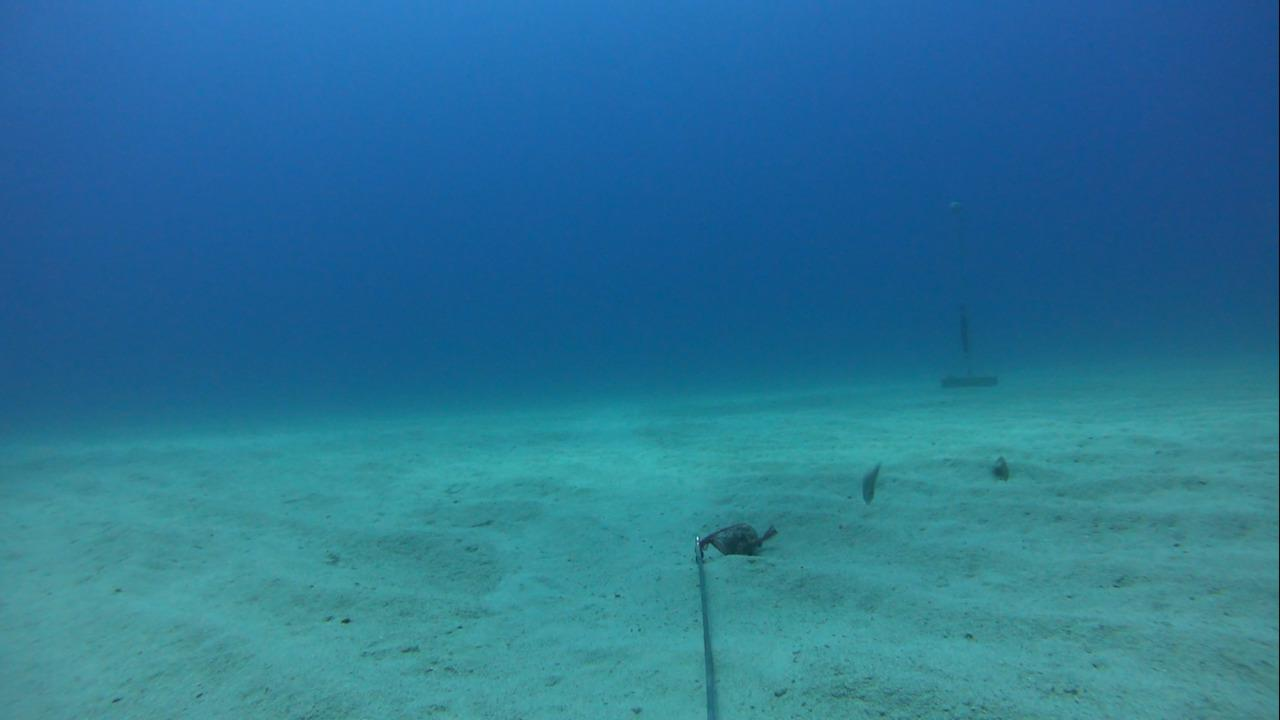raor: (846, 446, 897, 518), (976, 446, 1026, 486)
